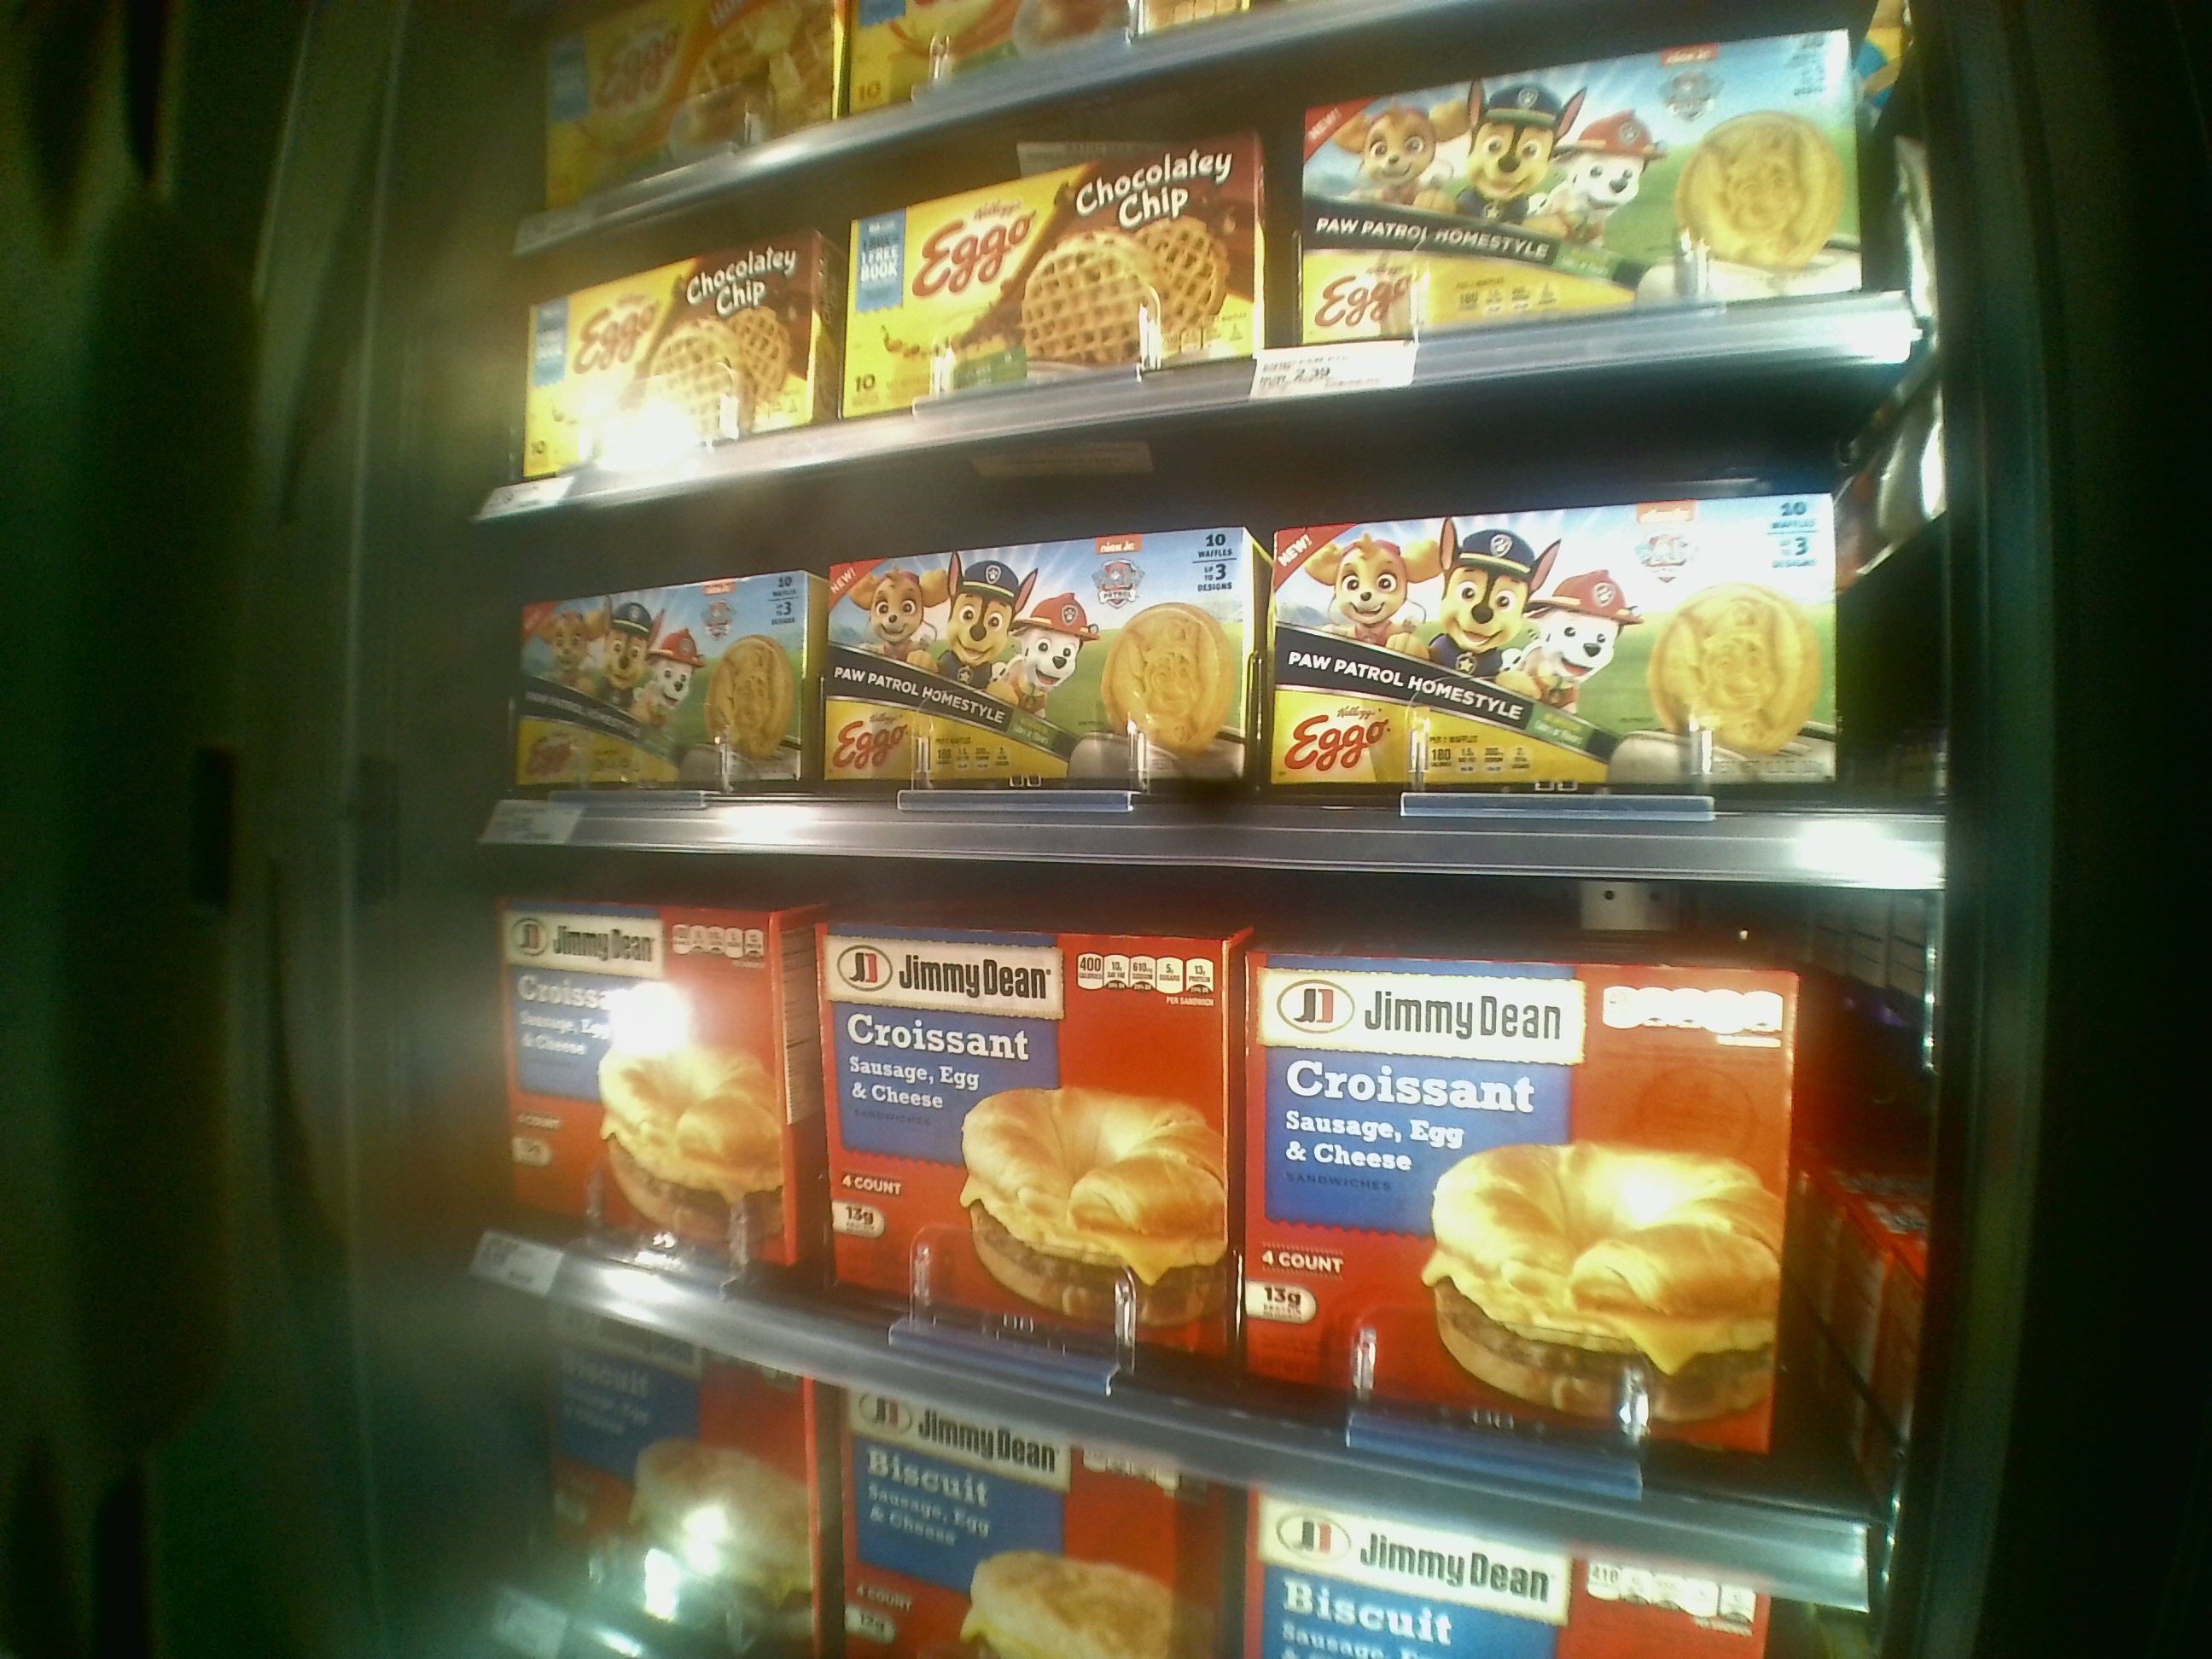shelf: (469, 852, 1895, 1605), (479, 345, 1940, 884)
